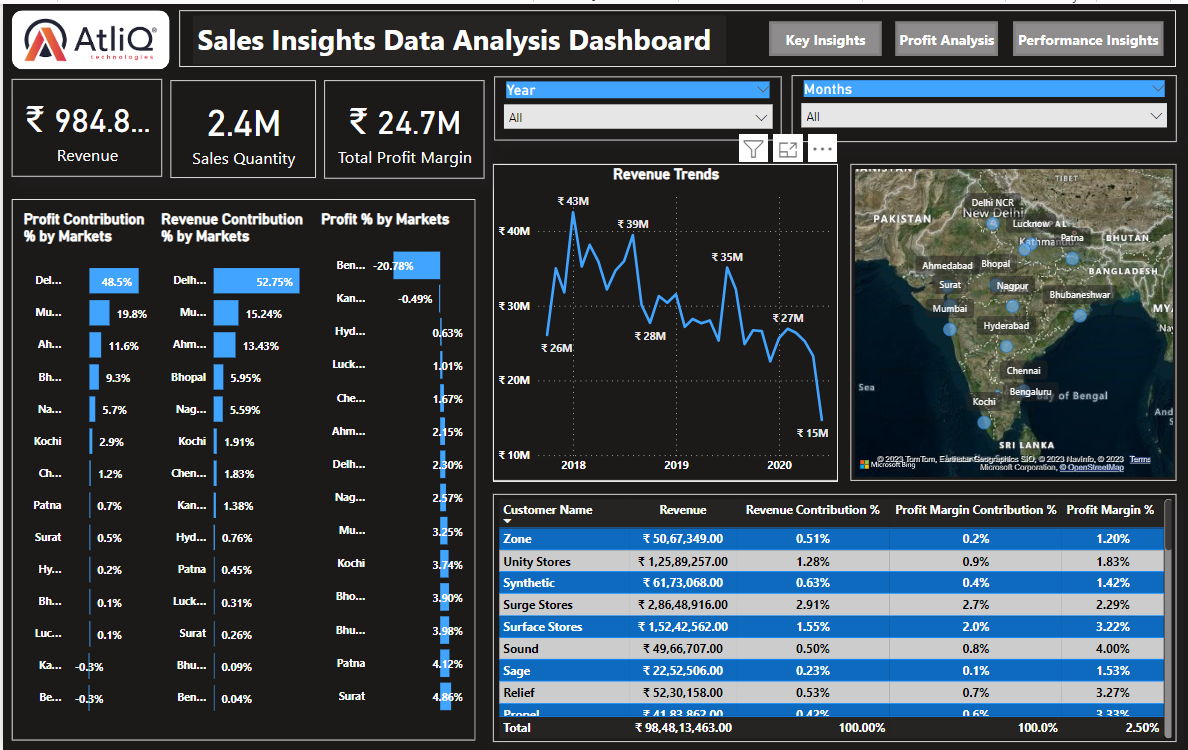

This screenshot's page, from the dashboard's own definition file:
{"tool":"powerbi","page":{"name":"Profit Analysis","canvas":[1350,850],"ordinal":1},"visuals":[{"type":"shape","box":[9.8,222,528.3,616.8],"z":0},{"type":"card","fields":{"Values":["keymeasure.Revenue"]},"box":[9.8,85.7,171.4,111],"z":1000},{"type":"card","fields":{"Values":["keymeasure.sales quntity"]},"box":[191.1,87.1,165.8,111],"z":2000},{"type":"barChart","title":"Revenue Contribution % by Markets","fields":{"Y":["keymeasure.Revenue Contribution %"],"Category":["sales markets.markets_name"]},"box":[175.6,234.6,181.2,590.1],"z":3000},{"type":"barChart","title":"Profit Contribution % by Markets","fields":{"Y":["keymeasure.Profit Margin Contribution %"],"Category":["sales markets.markets_name"]},"box":[18.3,234.6,154.5,590.1],"z":4000},{"type":"slicer","fields":{"Values":["sales date.year"]},"box":[559,82.9,327.4,73.1],"z":5000},{"type":"slicer","fields":{"Values":["sales date.cy_date"]},"box":[897.8,81.5,438.3,75.9],"z":6000},{"type":"lineChart","title":"Revenue Trends","fields":{"Y":["keymeasure.Revenue"],"Category":["sales date.cy_date"]},"box":[557.8,182.6,393,361.1],"z":7000},{"type":"barChart","title":"Profit % by Markets","fields":{"Y":["keymeasure.Profit Margin %"],"Category":["sales markets.markets_name"]},"box":[356.9,234.6,171.4,590.1],"z":8000},{"type":"card","fields":{"Values":["keymeasure.Total Profit Margin"]},"box":[365.3,87.1,182.6,112.4],"z":9000},{"type":"tableEx","fields":{"Values":["sales customers.custmer_name","keymeasure.Revenue","keymeasure.Revenue Contribution %","keymeasure.Profit Margin Contribution %","keymeasure.Profit Margin %"]},"box":[557.8,557.8,778.3,282.4],"z":10000},{"type":"map","title":"Profit Margin % by Markets Name","fields":{"Category":["sales markets.markets_name"],"Size":["keymeasure.Profit Margin %"]},"box":[965,182.6,370.9,361.1],"z":11000},{"type":"shape","box":[200.9,7,1135.2,64.6],"z":12000},{"type":"actionButton","box":[872.5,19.7,127.9,39.3],"z":13000},{"type":"actionButton","box":[1017.2,19.7,116.6,39.3],"z":14000},{"type":"actionButton","box":[1150.7,19.7,171.4,39.3],"z":15000},{"type":"shape","box":[9.8,7,179.8,67.4],"z":16000},{"type":"image","box":[14,7,171.4,67.4],"z":17000},{"type":"textbox","box":[216.4,12.6,606.9,56.2],"z":18000}]}

Visuals, with their boxes in screenshot pixels (x1, y1, x2, y2), scaled from the page's 1350x850 canvas onto the 1188x750 screenshot:
shape: (9, 196, 474, 740)
card - keymeasure.Revenue: (9, 76, 159, 174)
card - keymeasure.sales quntity: (168, 77, 314, 175)
"Revenue Contribution % by Markets" barChart: (155, 207, 314, 728)
"Profit Contribution % by Markets" barChart: (16, 207, 152, 728)
slicer - sales date.year: (492, 73, 780, 138)
slicer - sales date.cy_date: (790, 72, 1176, 139)
"Revenue Trends" lineChart: (491, 161, 837, 480)
"Profit % by Markets" barChart: (314, 207, 465, 728)
card - keymeasure.Total Profit Margin: (321, 77, 482, 176)
tableEx - sales customers.custmer_name x keymeasure.Revenue: (491, 492, 1176, 741)
"Profit Margin % by Markets Name" map: (849, 161, 1176, 480)
shape: (177, 6, 1176, 63)
actionButton: (768, 17, 880, 52)
actionButton: (895, 17, 998, 52)
actionButton: (1013, 17, 1163, 52)
shape: (9, 6, 167, 66)
image: (12, 6, 163, 66)
textbox: (190, 11, 725, 61)
